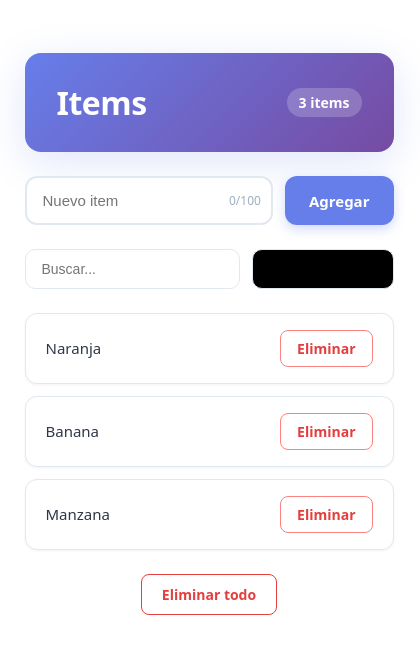
Scenario: Componente App › Gestión de Errores de API › debería mostrar error si falla la creación de un item
Expected: the text "Manzana" is shown, [46,503,110,526]
Type "Pera" into the field with placeholder "Nuevo item" at (149, 201), box [24,176,273,225]
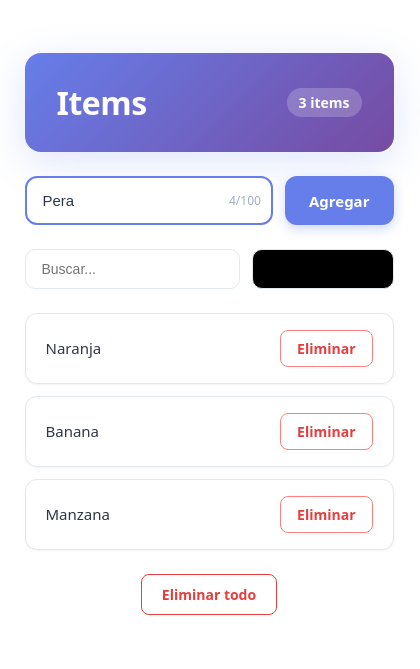
Click the button "Agregar" at (339, 201), box [285,176,394,225]
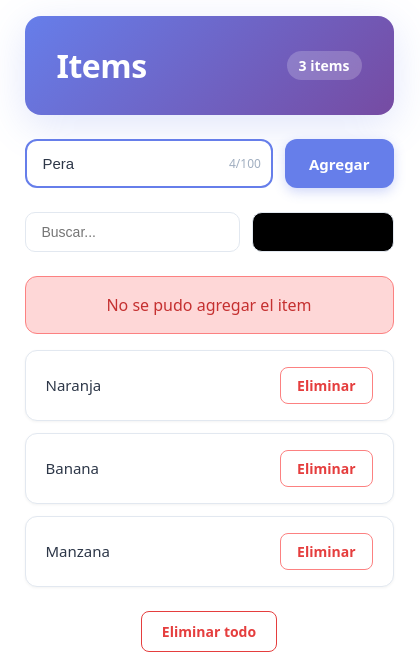
Expected: the text "No se pudo agregar el item" is shown, [24,276,394,334]
